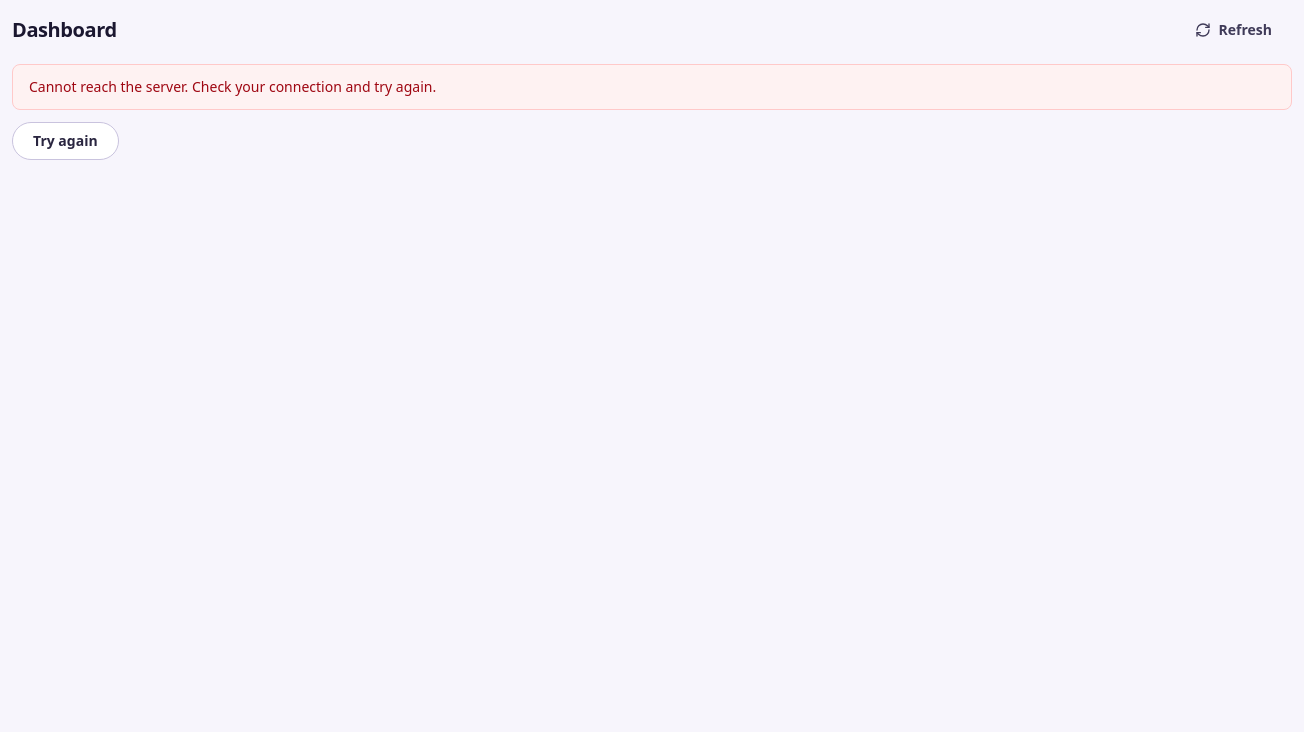
Test case: AdminDashboardPage › shows a friendly error and lets the person try again
Expected: the message shows "Cannot reach the server", 29,77 -> 436,96
Click the button "Try again". click: point(65, 141)
box: 12,122 -> 119,160
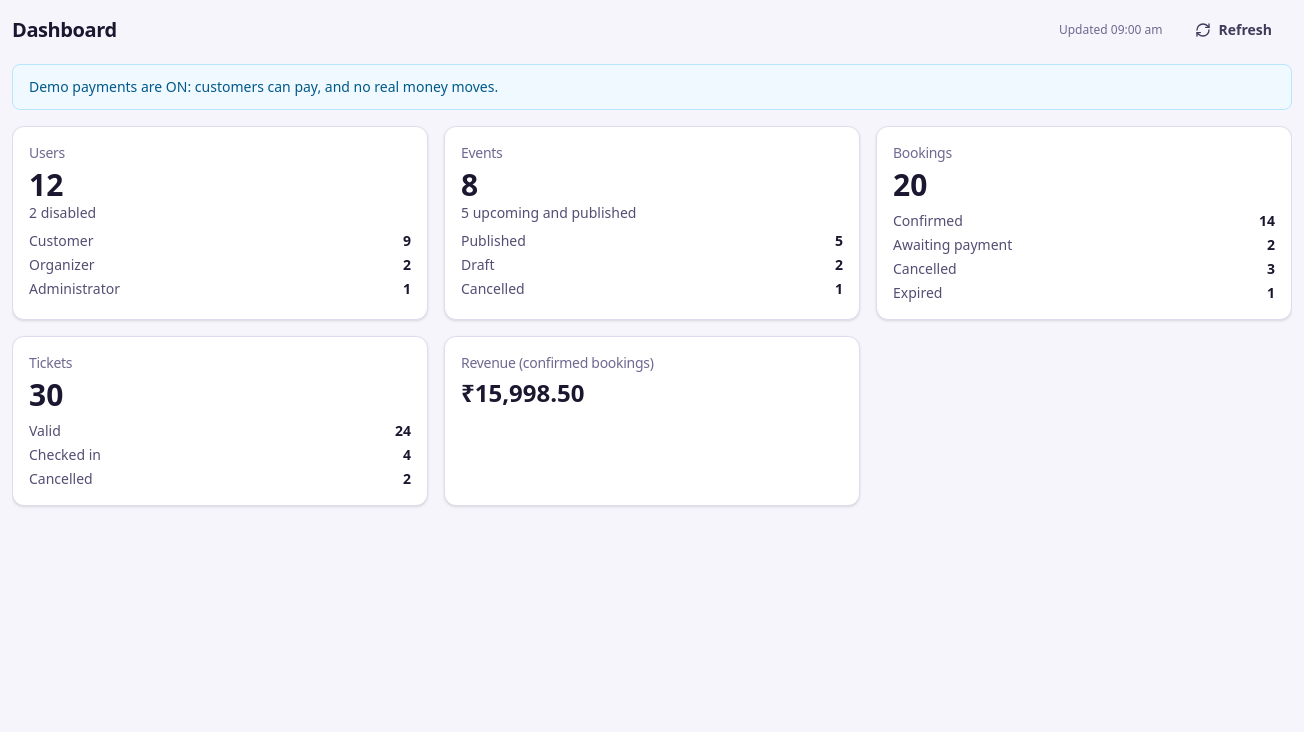
Result: the text "Demo payments are ON: customers can pay, and no real money moves." is shown at 12,64 -> 1292,110
